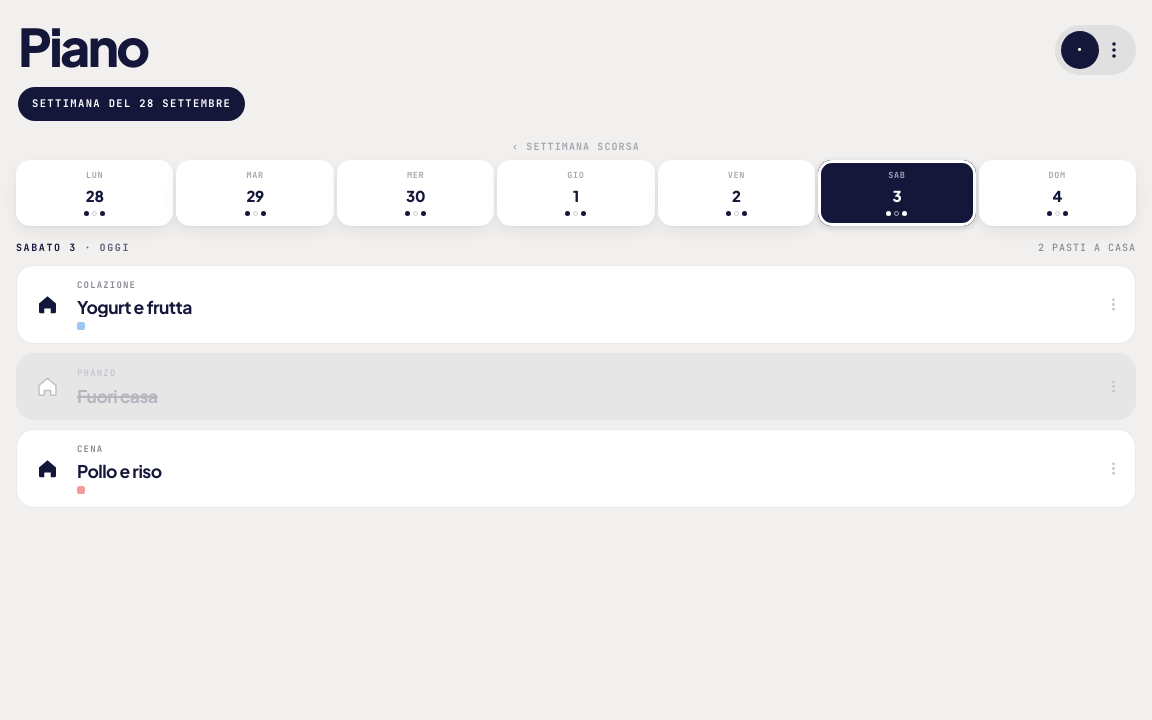
Test: spunta pasti › a settimana confermata la zona destra di oggi apre il foglio e "Saltato" spunta lo slot
The width and height of the screenshot is (1152, 720).
Expected: the text "Yogurt e frutta" is shown, x1=77 y1=297 x2=192 y2=317
Click the button named "Azioni per Cena" at (1113, 469), box x1=1091 y1=430 x2=1135 y2=507
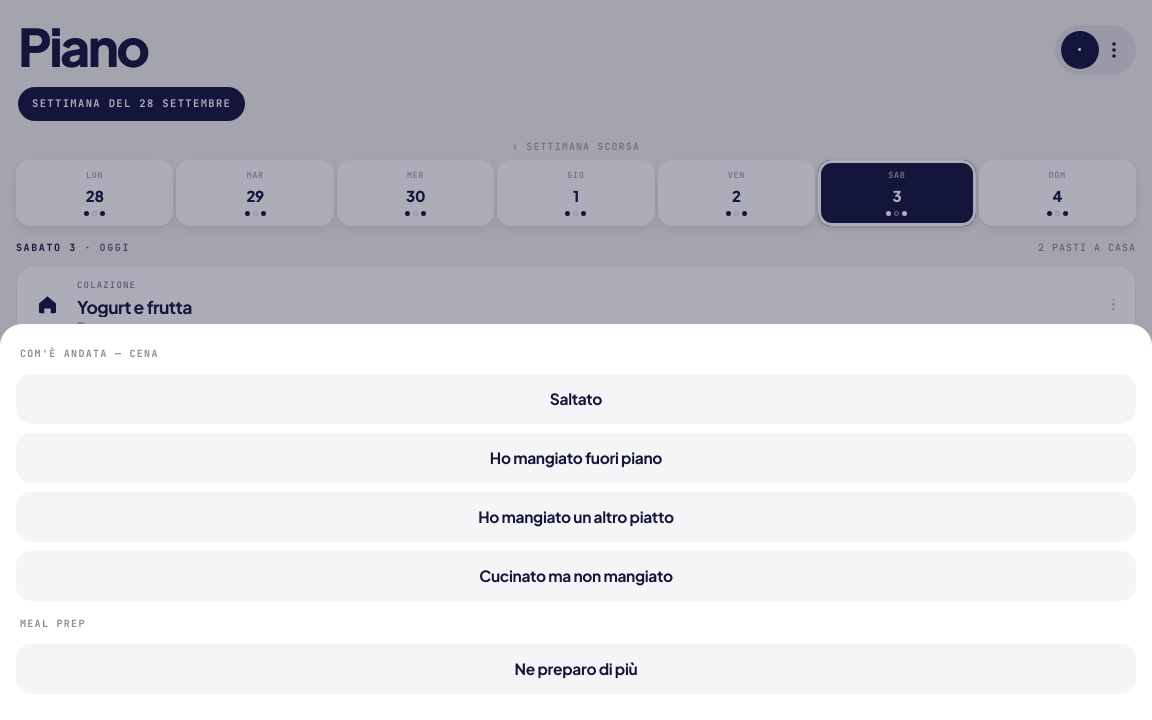
Click the button "Saltato" at (576, 399), box x1=16 y1=374 x2=1136 y2=424
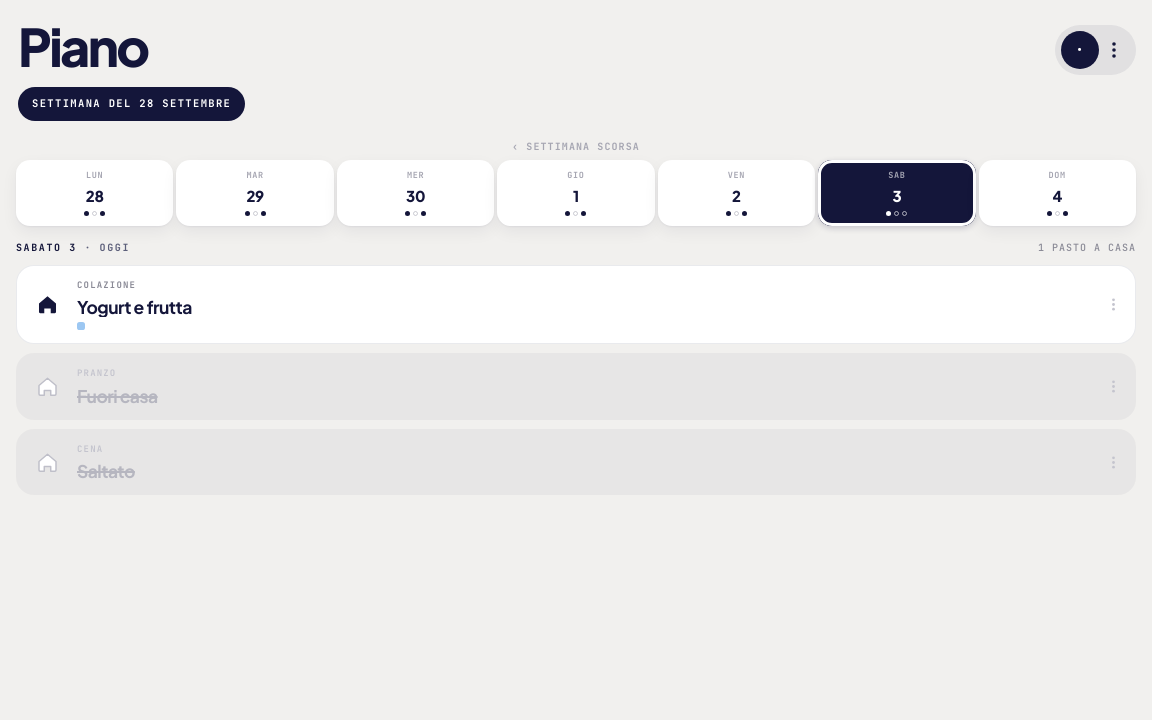
Expected: the text "Saltato" is shown, x1=77 y1=461 x2=135 y2=481
